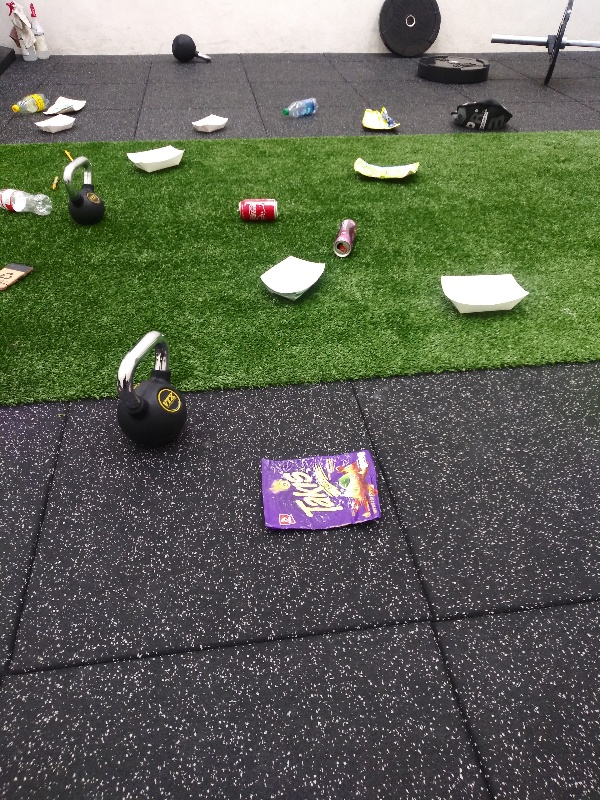bag: (254, 449, 388, 531), (351, 155, 423, 182), (357, 104, 408, 134), (44, 94, 90, 115)
bottle: (1, 184, 59, 217), (10, 87, 53, 120), (281, 95, 323, 123)
can: (231, 196, 283, 225), (332, 217, 361, 259)
plate: (436, 271, 536, 318), (253, 252, 329, 304), (124, 140, 189, 175), (188, 111, 233, 138), (35, 111, 80, 135)
